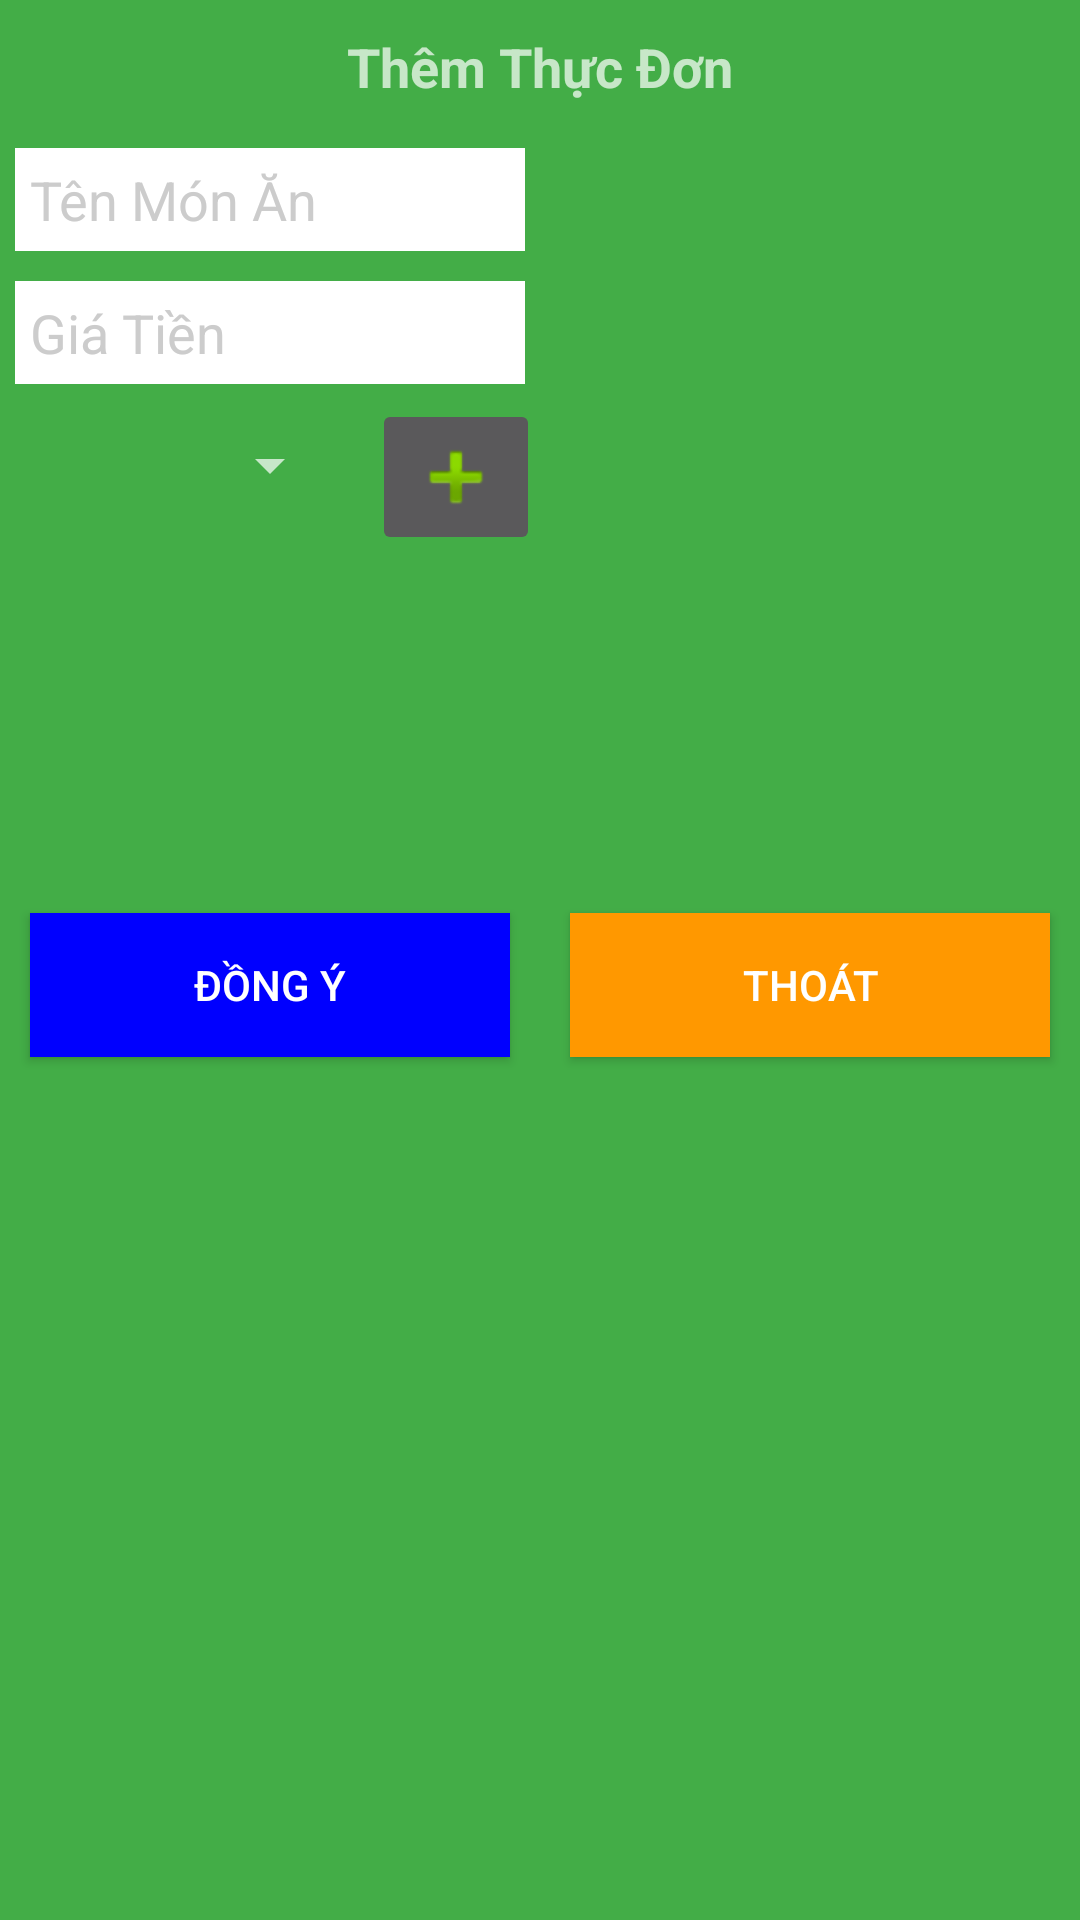

Named icons in this screenshot (1080x1920) and their centers, (x,y):
add: (456,477)
